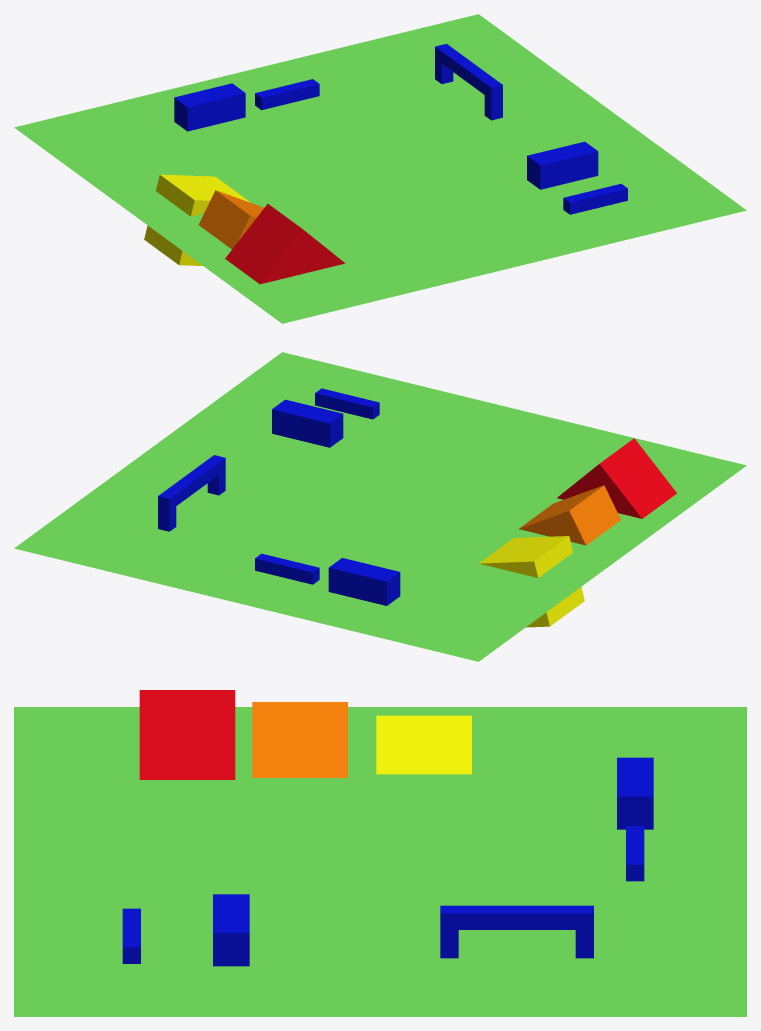
Rendered from Escena de testeo.fbx.
The picture shows the model from 3 angles, top to bottom: view 1: azimuth 30°, elevation 25°; view 2: azimuth 150°, elevation 25°; view 3: azimuth 270°, elevation 25°; orthographic projection. The views are drawn at different scales.
Parts seen in each view (by area): view 1: Plane; view 2: Plane; view 3: Plane.
Part boxes in pixels (<box>): Plane: <box>14,14,746,323</box>; Plane: <box>14,352,746,661</box>; Plane: <box>14,690,746,1016</box>.
Bounding box in the file's own units: 4000 × 879 × 4000.
